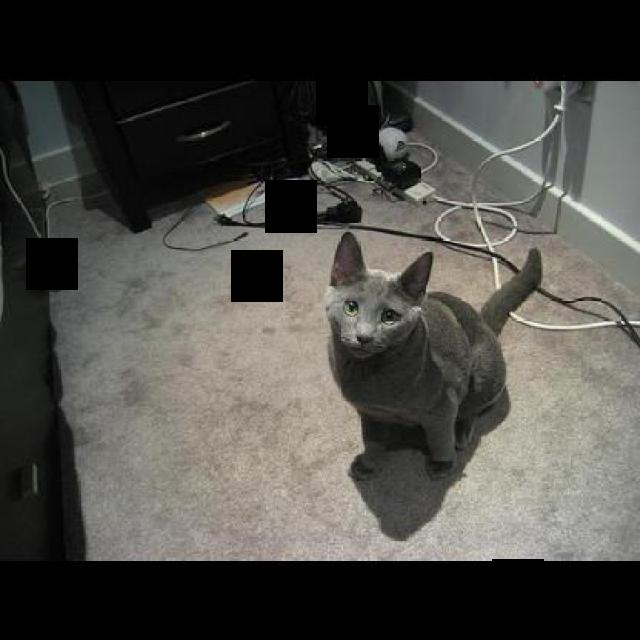unauthorized: (323, 229, 543, 480)
